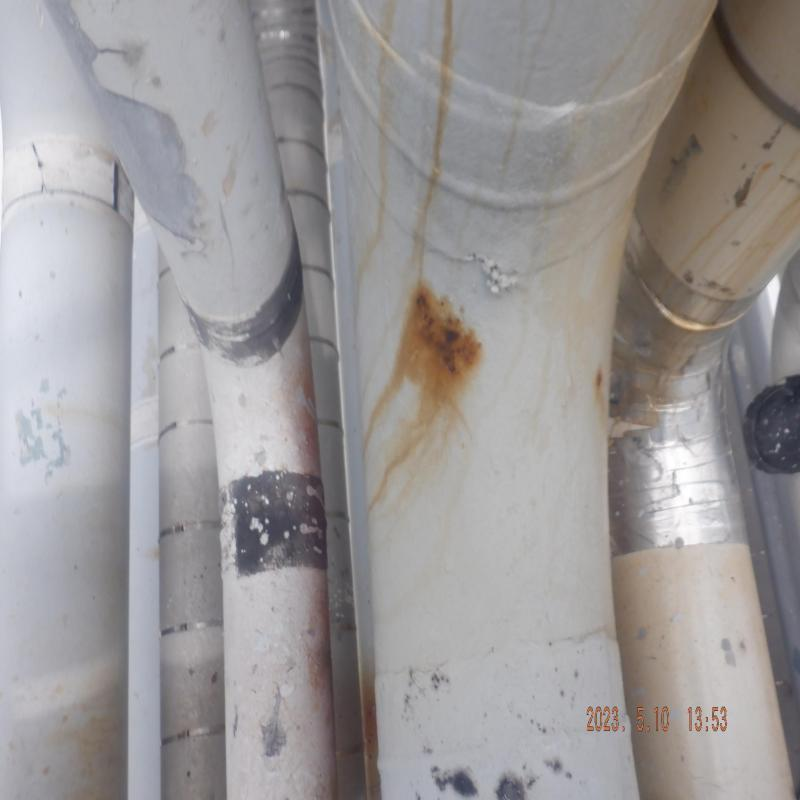corrosion: (410, 302, 467, 399)
